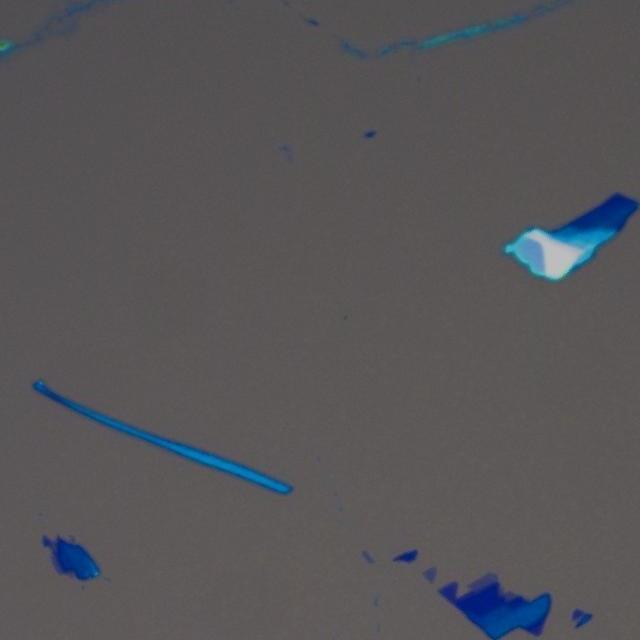monolayer-eWW4: (466, 570, 495, 594), (421, 564, 436, 584), (502, 588, 514, 600)
